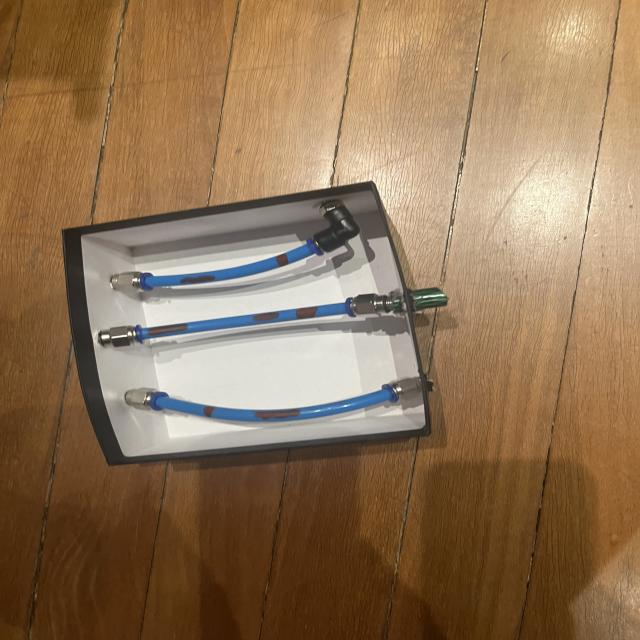hose_damage: (145, 321, 191, 340), (253, 407, 303, 422), (178, 273, 220, 287), (293, 304, 321, 322), (249, 310, 282, 324), (272, 251, 292, 268), (200, 403, 218, 419)
